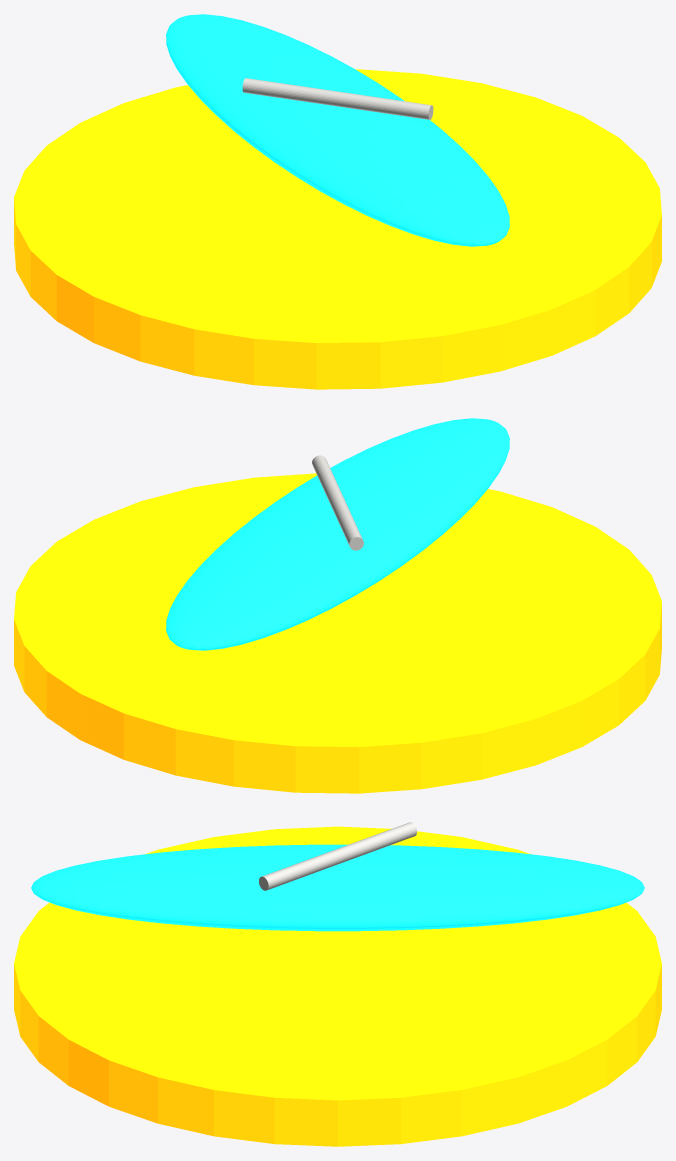
File: spanish_surfboard.glb
3 views of the same model, one above another, from view 1: azimuth 30°, elevation 25°; view 2: azimuth 150°, elevation 25°; view 3: azimuth 270°, elevation 25° (orthographic).
Parts seen in each view (by area): view 1: 11_17_Popular_Spanish_Surfboard_ROOT_base, 11_17_Popular_Spanish_Surfboard_part_01, 11_17_Popular_Spanish_Surfboard_part_02; view 2: 11_17_Popular_Spanish_Surfboard_ROOT_base, 11_17_Popular_Spanish_Surfboard_part_01, 11_17_Popular_Spanish_Surfboard_part_02; view 3: 11_17_Popular_Spanish_Surfboard_ROOT_base, 11_17_Popular_Spanish_Surfboard_part_01, 11_17_Popular_Spanish_Surfboard_part_02.
Boxes of the visible parts, x1=… form: 11_17_Popular_Spanish_Surfboard_ROOT_base: x1=14, y1=69, x2=661, y2=389; 11_17_Popular_Spanish_Surfboard_part_01: x1=166, y1=14, x2=509, y2=246; 11_17_Popular_Spanish_Surfboard_part_02: x1=242, y1=78, x2=433, y2=119; 11_17_Popular_Spanish_Surfboard_ROOT_base: x1=14, y1=473, x2=661, y2=793; 11_17_Popular_Spanish_Surfboard_part_01: x1=166, y1=418, x2=509, y2=650; 11_17_Popular_Spanish_Surfboard_part_02: x1=312, y1=455, x2=363, y2=550; 11_17_Popular_Spanish_Surfboard_ROOT_base: x1=14, y1=826, x2=661, y2=1146; 11_17_Popular_Spanish_Surfboard_part_01: x1=31, y1=844, x2=644, y2=931; 11_17_Popular_Spanish_Surfboard_part_02: x1=259, y1=822, x2=416, y2=890.
Bounding box in the file's own units: 0.76 × 0.2072 × 0.76.
